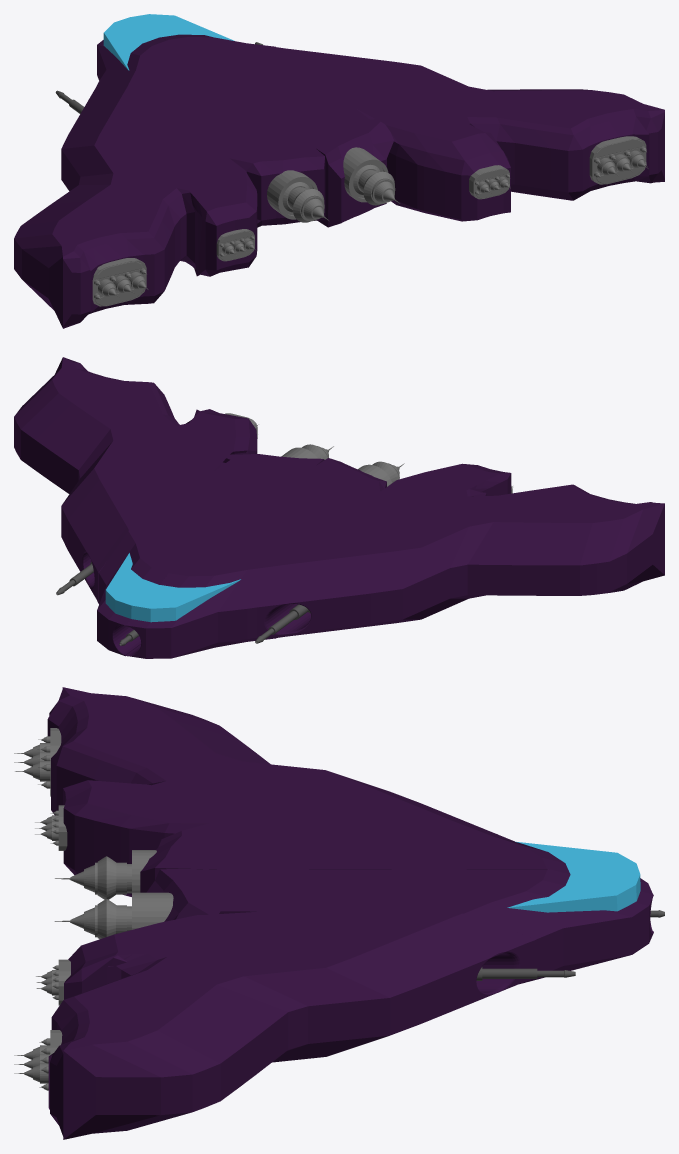
The model's file is Space Ship Begin v2.1.fbx.
3 renders of one model, top to bottom at view 1: azimuth 30°, elevation 25°; view 2: azimuth 150°, elevation 25°; view 3: azimuth 270°, elevation 25°, orthographic. The views are drawn at different scales.
Visible parts, largest first — view 1: Plane.001; view 2: Plane.001; view 3: Plane.001.
Boxes of the visible parts, x1=… form: Plane.001: x1=14, y1=14, x2=664, y2=328; Plane.001: x1=14, y1=357, x2=664, y2=658; Plane.001: x1=14, y1=687, x2=664, y2=1139.
Bounding box in the file's own units: 817 × 93.11 × 615.
